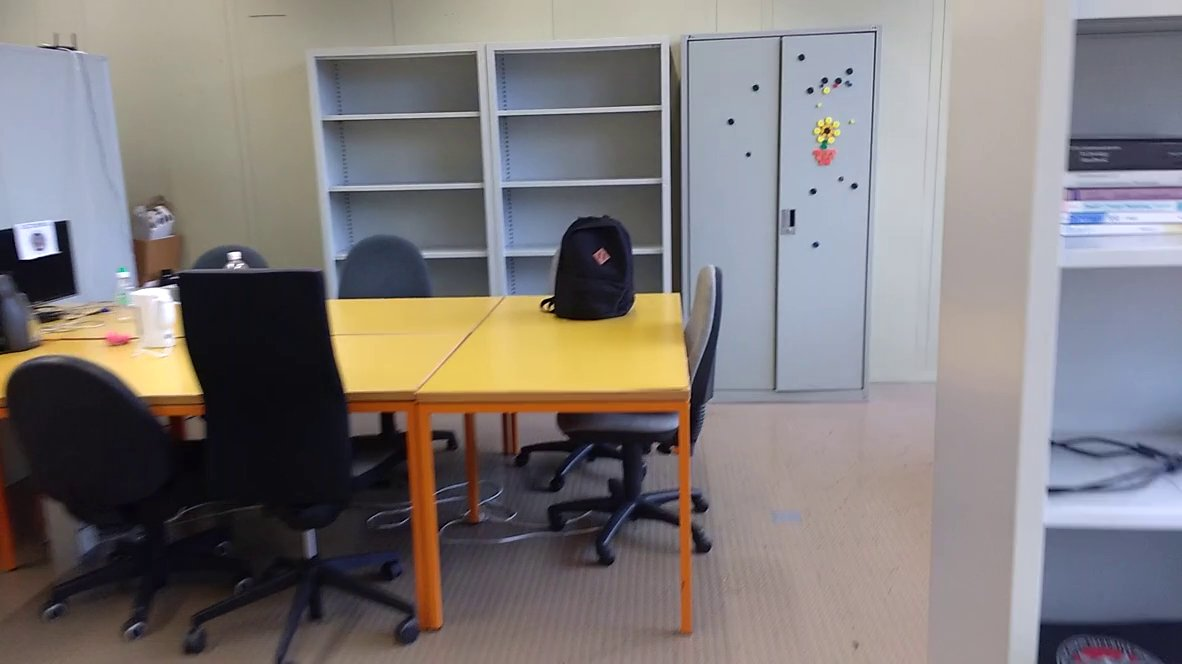bag: (534, 207, 645, 326)
chair: (143, 262, 430, 664), (1, 327, 239, 622), (551, 256, 743, 573), (329, 227, 440, 316)
